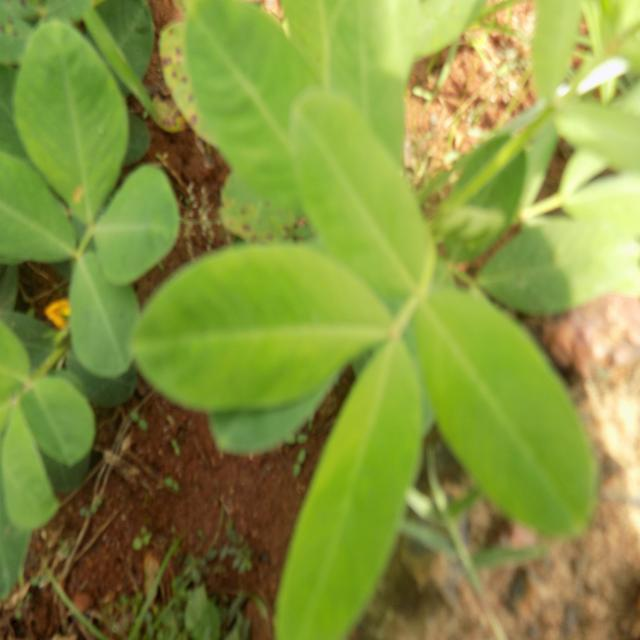Ground nut_healthy: (412, 287, 599, 547), (134, 240, 389, 412), (288, 84, 434, 306)
